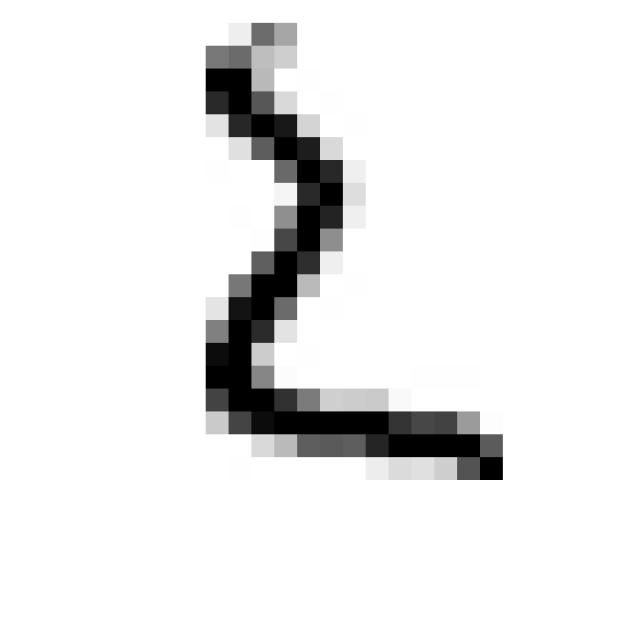4 -four-: (162, 9, 526, 503)
